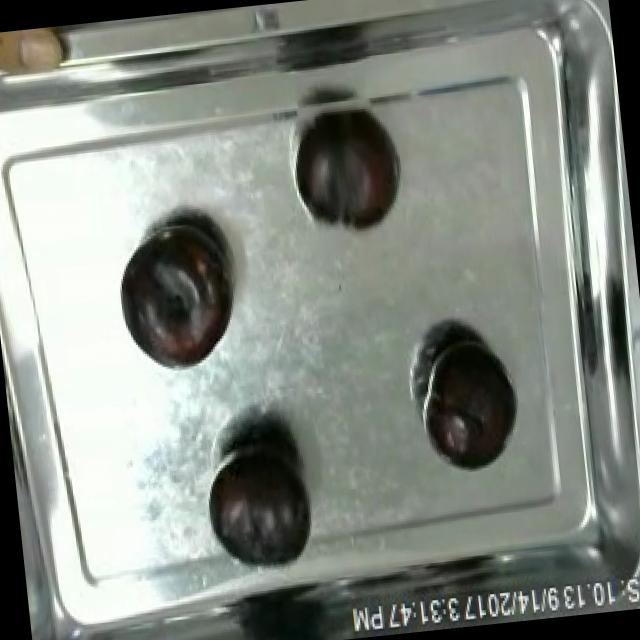Fruit: (109, 210, 242, 378), (195, 424, 324, 578), (414, 328, 524, 476), (307, 110, 407, 236), (0, 24, 74, 81)
